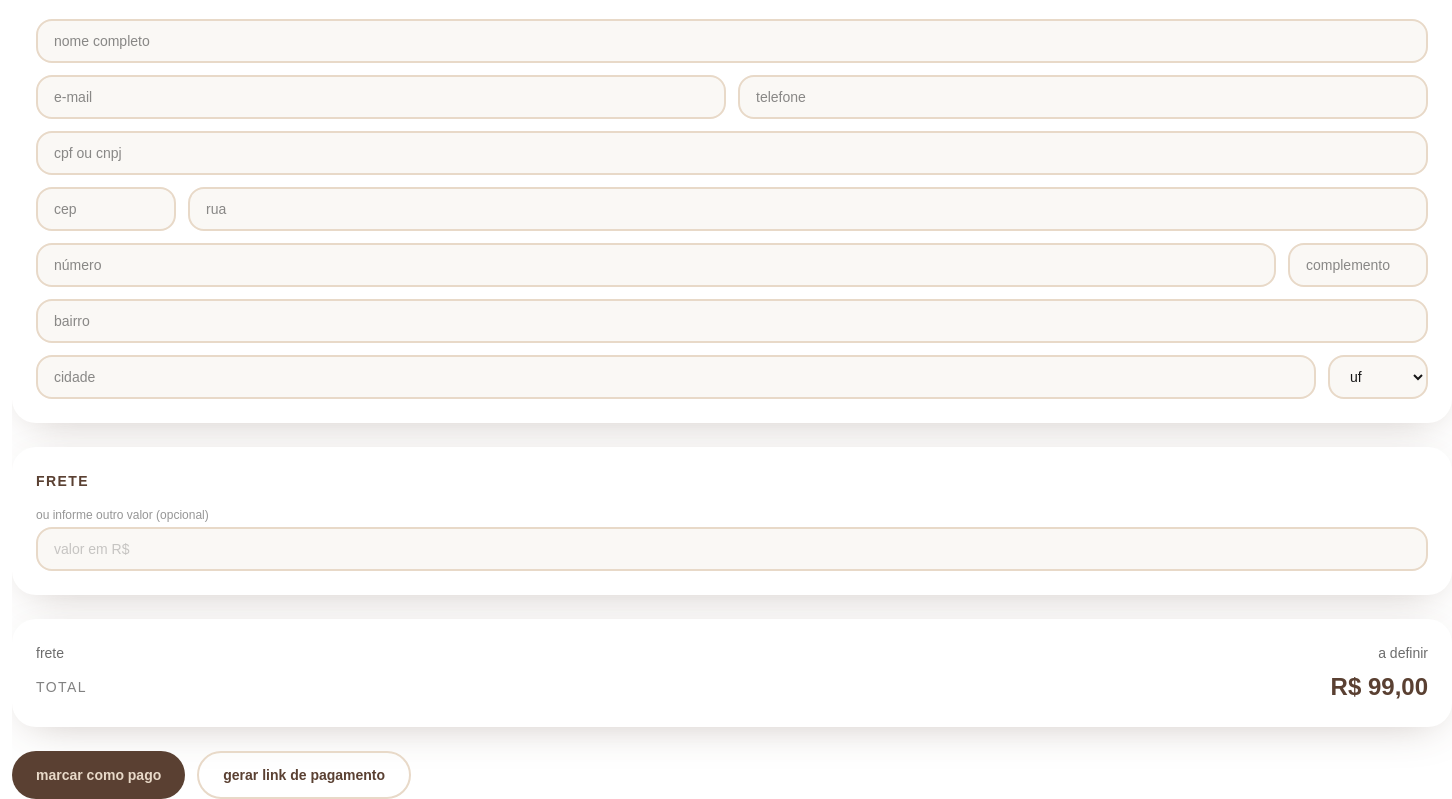
Scenario: NovoPedidoForm — submit › gerar link mostra o campo de link de pagamento
(page scrolled)
Click the button "gerar link de pagamento" at (304,775), box [197, 751, 411, 798]
(page scrolled)
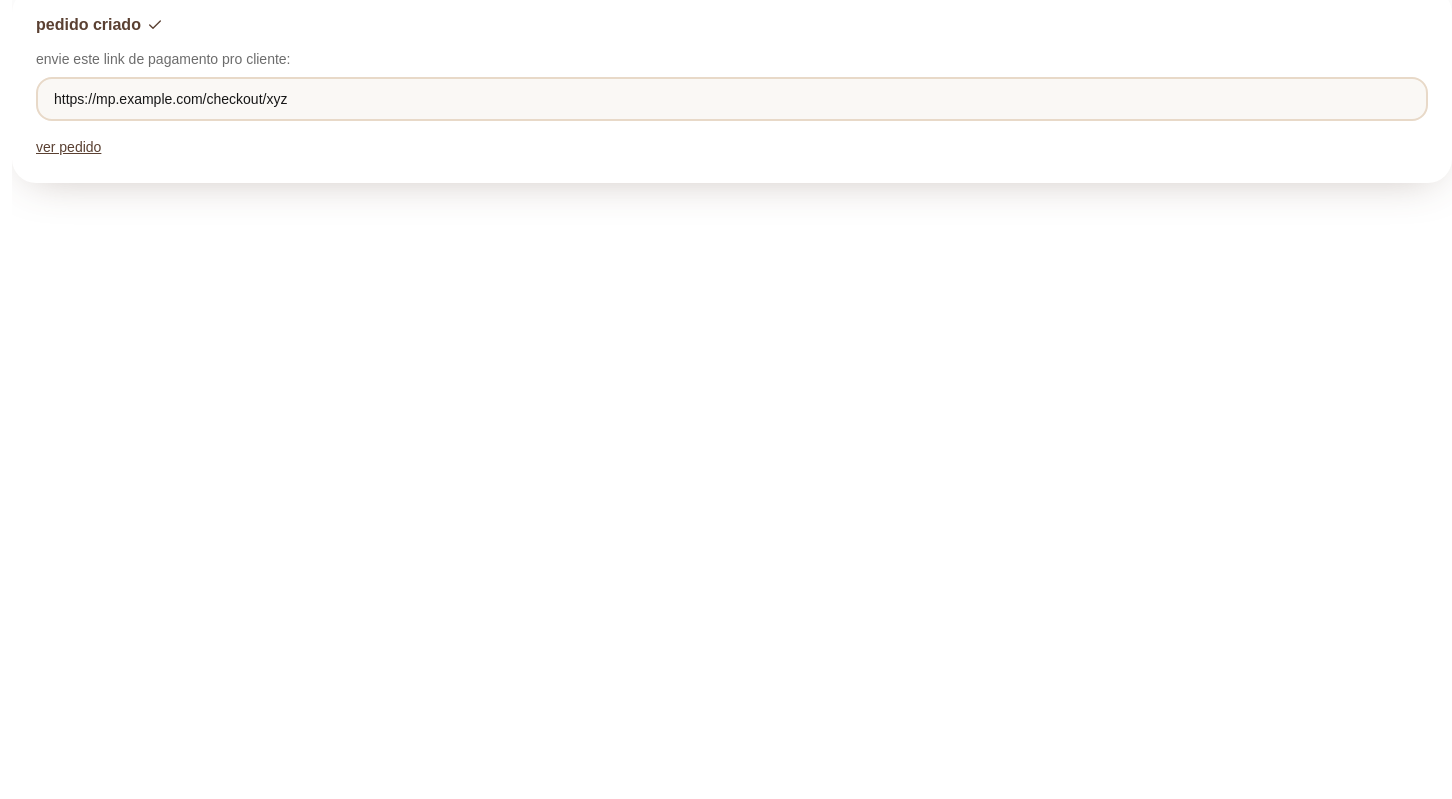
Expected: the field showing "https://mp.example.com/checkout/xyz" is shown, [36, 77, 1428, 121]
